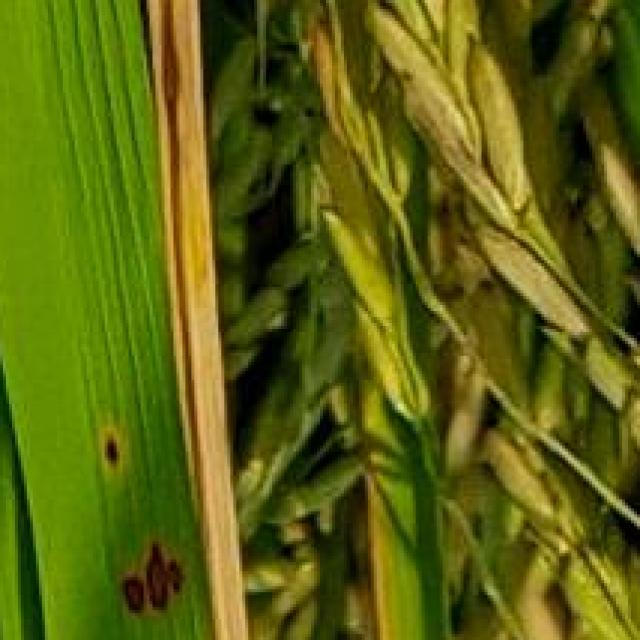Brown_Spot: (105, 548, 197, 640), (86, 424, 140, 490)
